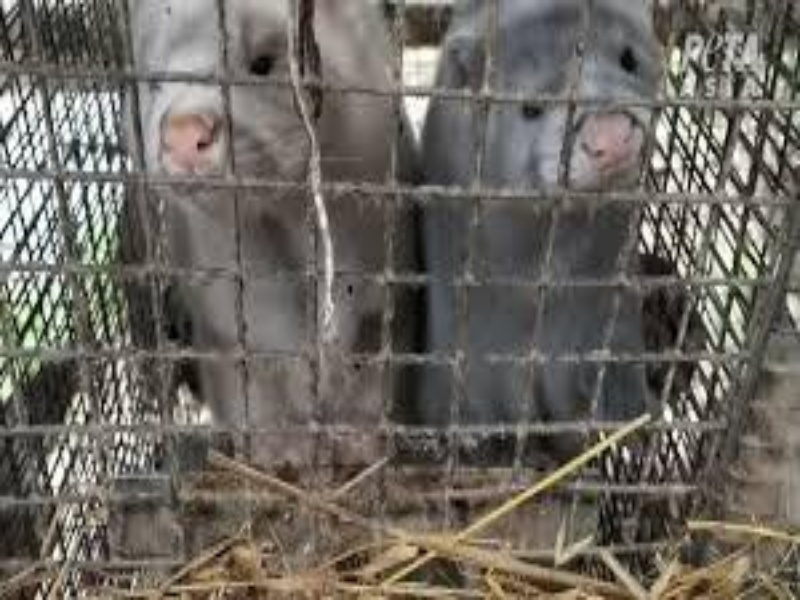minkish: (133, 1, 405, 495), (424, 1, 669, 503)
